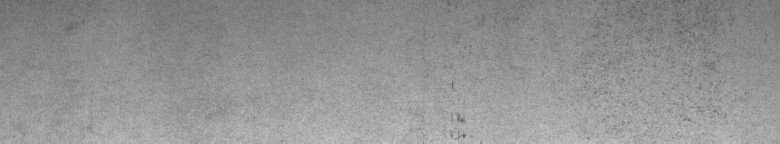ib: (595, 37, 726, 126)
